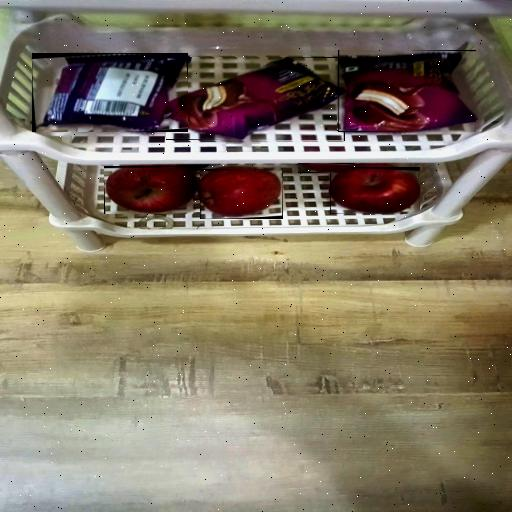Apple: (104, 166, 196, 214), (330, 167, 420, 214), (200, 169, 283, 219), (298, 163, 354, 173)
Choco Pie: (166, 58, 345, 142), (32, 53, 188, 132), (338, 50, 476, 132)
